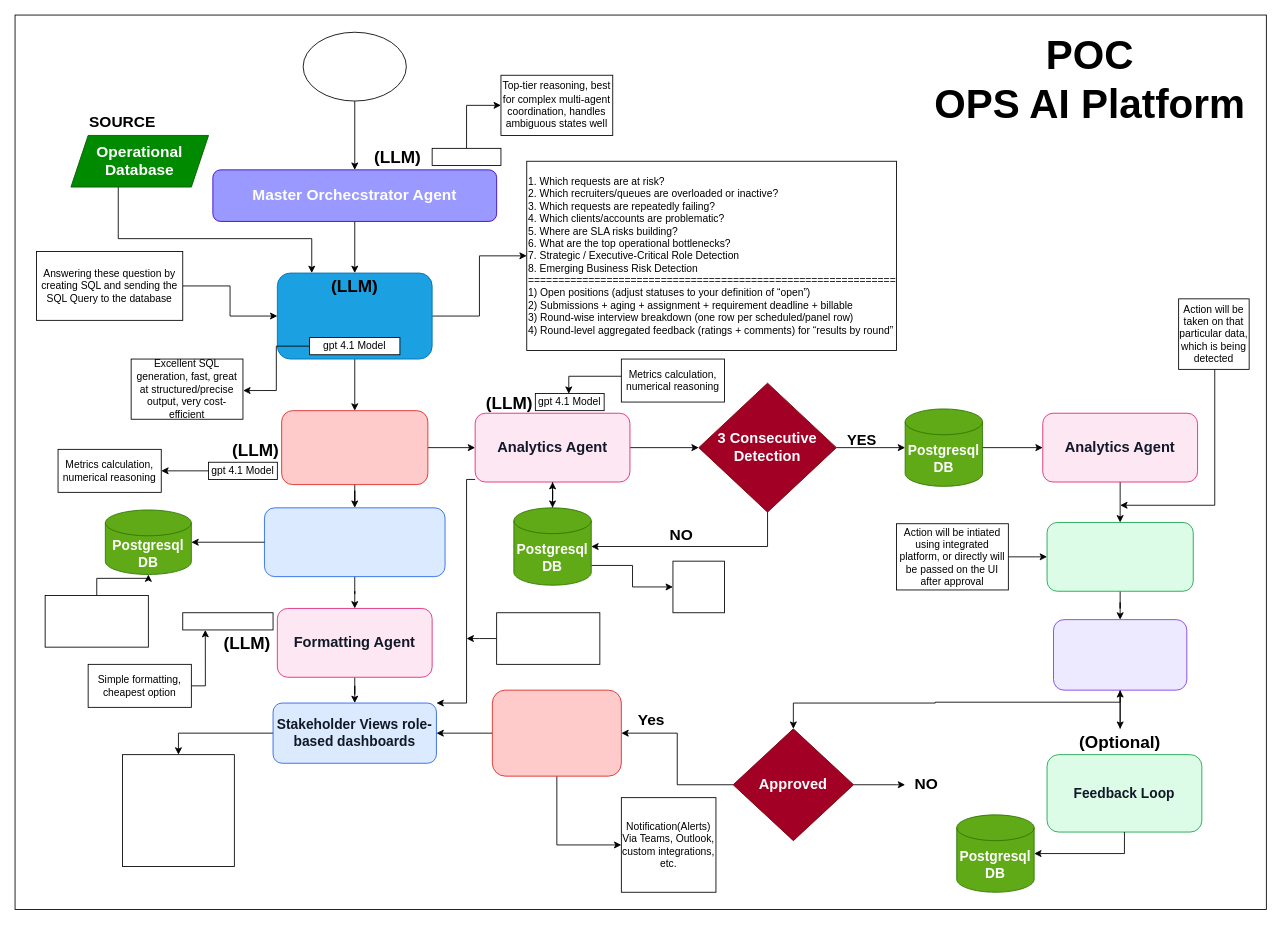
Image size: 1281x925. Some labels were removed from this diagram. Each missing label, with the box of its shape:
Action & Delivery Layer: (1046, 522, 1193, 591)
Alerts and Escalation Breach: (491, 689, 621, 776)
Database Query Agent: (276, 272, 432, 359)
gpt o3 Model: (431, 147, 501, 166)
gpt-4o-mini Model: (182, 612, 273, 630)
Human in the Loop: (1053, 619, 1187, 690)
If Three Consecutive Detection are not seen, the UI shows a small alert: (496, 612, 600, 664)
KPI Trends: (264, 507, 445, 577)
KPI(Summary), gets stored in the Database, with a unique id: (44, 595, 148, 647)
Risk Detection Agent: (281, 410, 428, 485)
Stored in the DB: (672, 560, 725, 613)
This node conatains both Executable Dashboard and a Mail to the Leadership: (122, 754, 234, 866)
Trigger: (302, 31, 406, 101)
